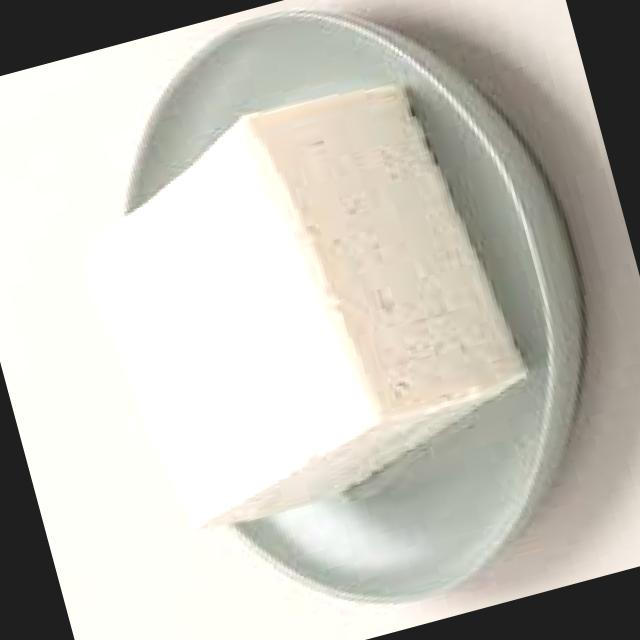tof: (24, 25, 598, 579)
